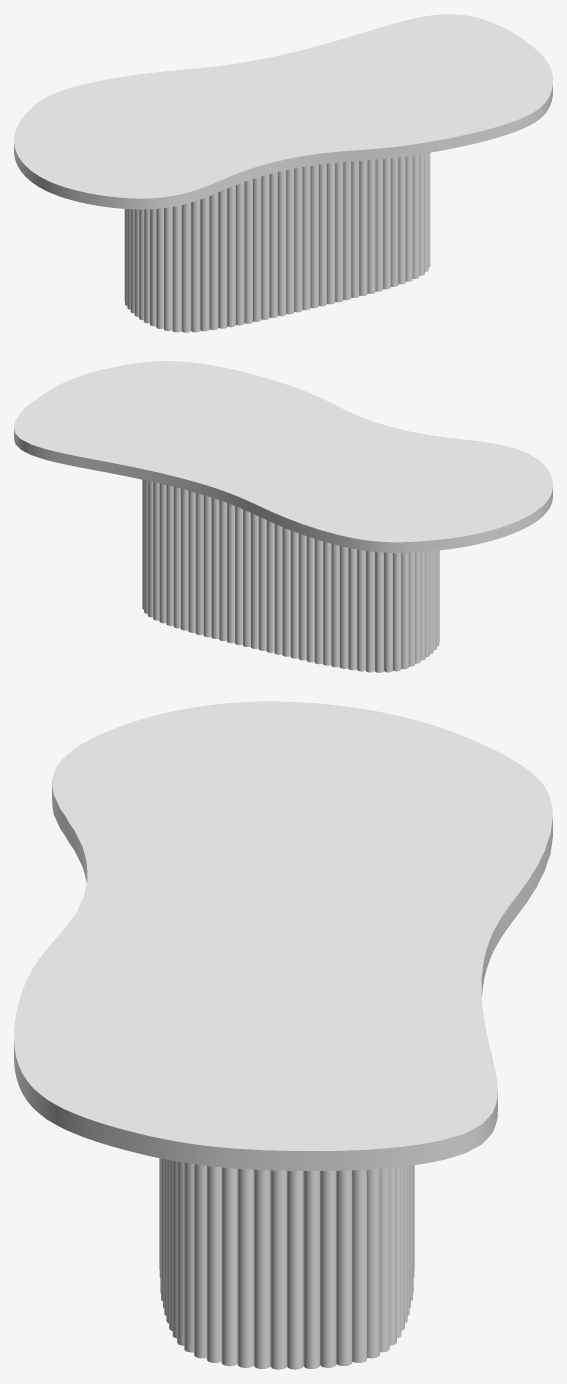
File: purewhite_wave_standard_newtable.glb
The picture shows the model from 3 angles, top to bottom: view 1: azimuth 30°, elevation 25°; view 2: azimuth 150°, elevation 25°; view 3: azimuth 270°, elevation 25°; orthographic projection. The views are drawn at different scales.
Visible parts, largest first — view 1: standard_wave, newtable; view 2: standard_wave, newtable; view 3: standard_wave, newtable.
Part boxes in pixels (x1,y1,x2,y2): standard_wave: (14, 14, 552, 209); newtable: (124, 153, 430, 332); standard_wave: (14, 361, 552, 552); newtable: (142, 479, 439, 672); standard_wave: (14, 701, 552, 1170); newtable: (159, 1158, 414, 1369).
Bounding box in the file's own units: 7.5 × 2.5 × 3.8.
Materials: 2 (2 with a texture image).
